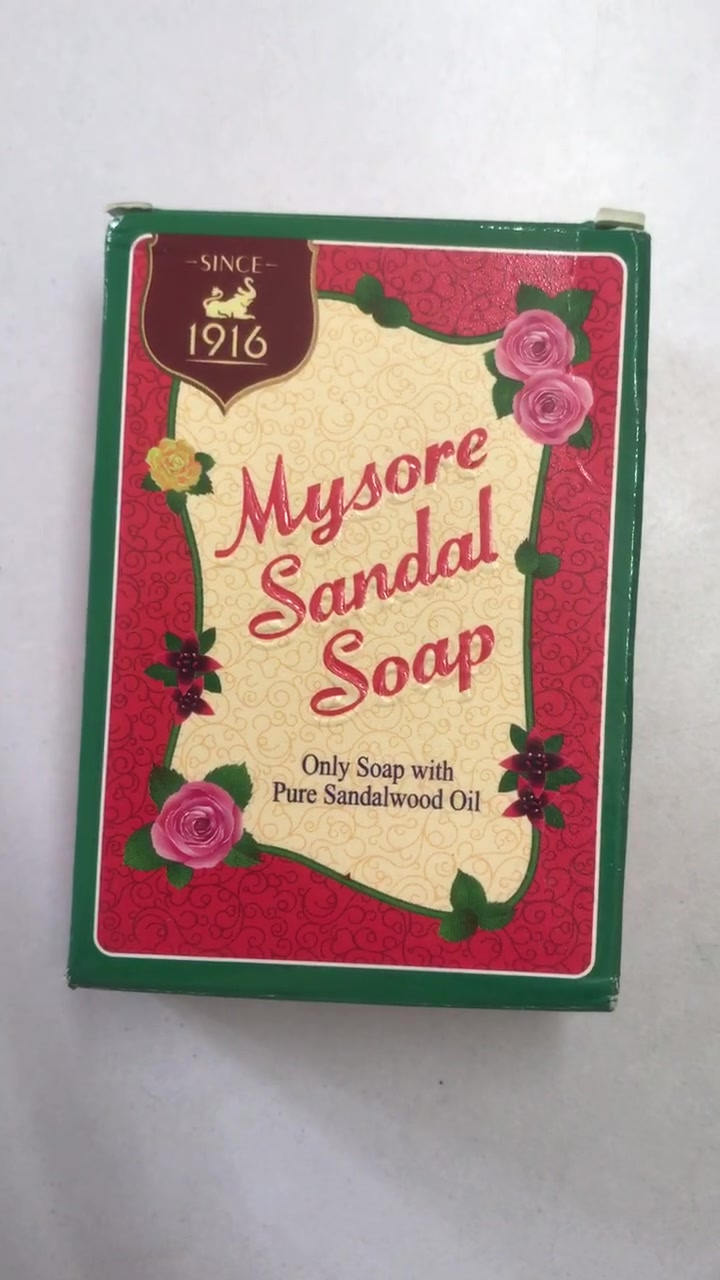mysore sandal soap: (69, 207, 642, 1012)
